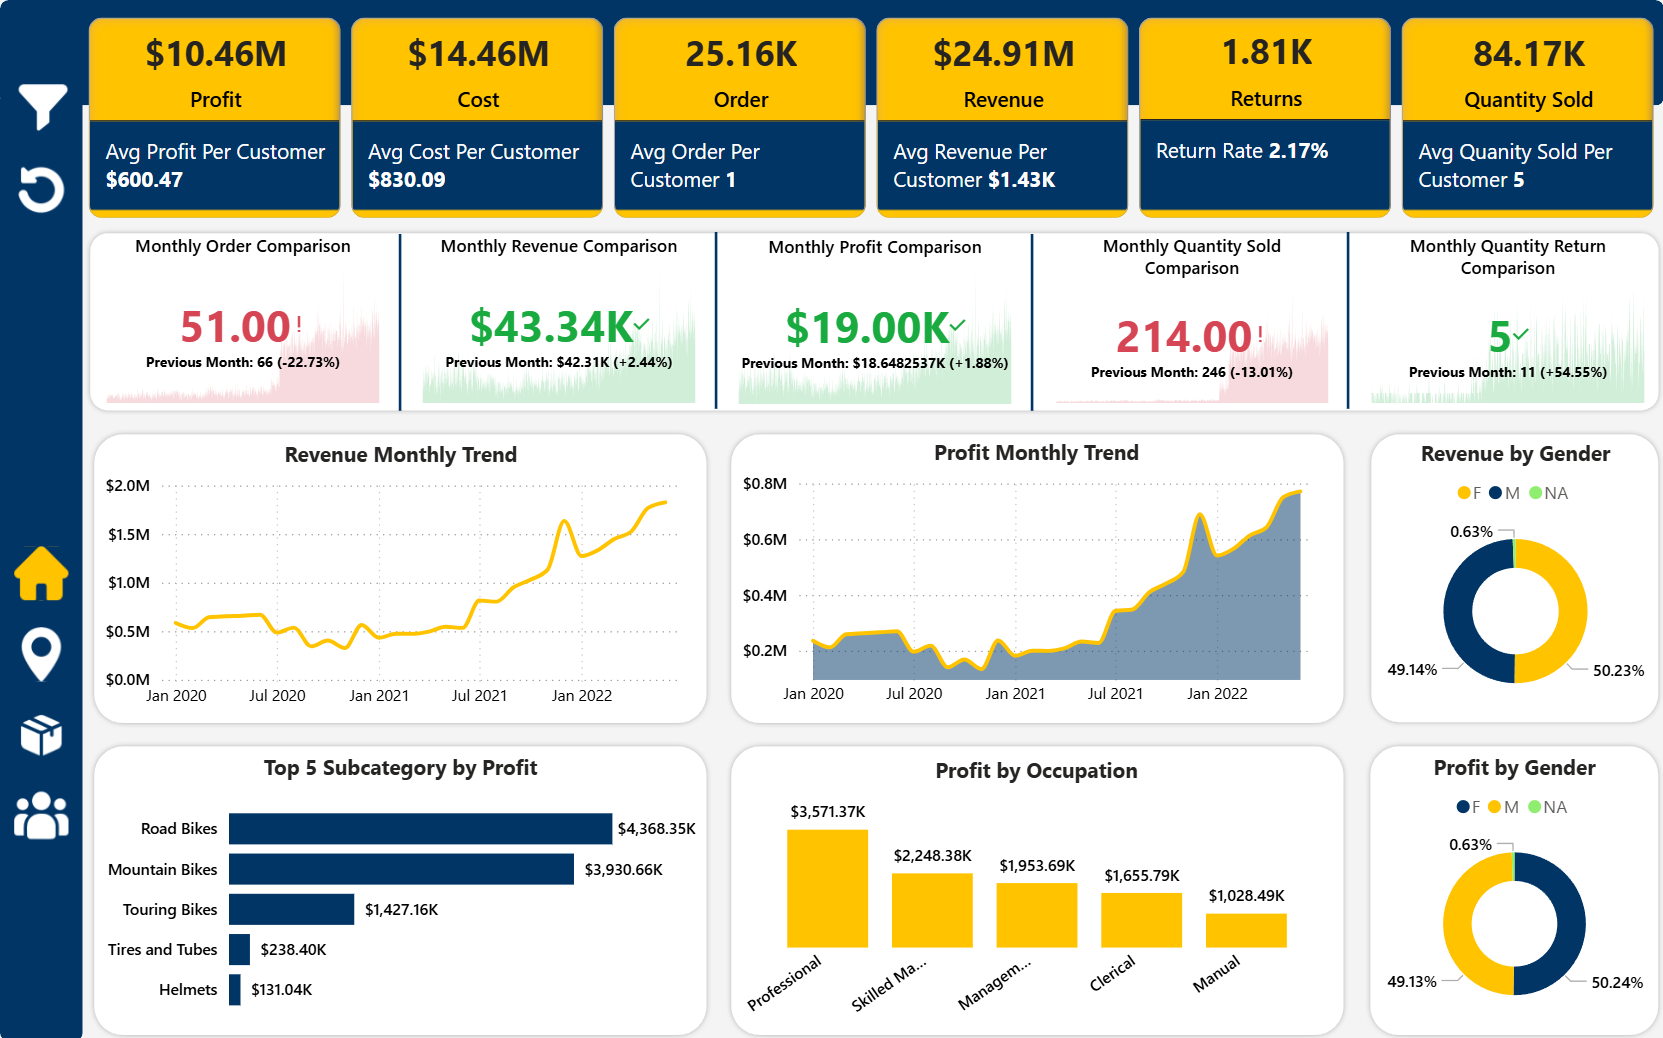

What the dashboard file says about the page in this screenshot:
{"tool":"powerbi","page":{"name":"Home","canvas":[1280,800],"ordinal":0},"visuals":[{"type":"shape","box":[0,0,1280,81.2],"z":0},{"type":"shape","box":[65.6,175.3,1214.4,144.3],"z":0,"group":"g1"},{"type":"cardVisual","fields":{"Data":["_Measure Table.Profit","_Measure Table.Total Cost","_Measure Table.Total Order","_Measure Table.Total Revenue","_Measure Table.Total Returns","_Measure Table.Quantity Sold"]},"box":[63.4,8.7,1216.6,164.2],"z":1000},{"type":"kpi","title":"Monthly Order Comparison","fields":{"Indicator":["_Measure Table.Total Order"],"TrendLine":["Calendar Lookup.Date"],"Goal":["_Measure Table.Previous Month Order"]},"box":[76.9,179.9,220,135],"z":1000,"group":"g1"},{"type":"shape","box":[0,71.9,63.6,728.4],"z":2000},{"type":"kpi","title":"Monthly Revenue Comparison","fields":{"TrendLine":["Calendar Lookup.Date"],"Indicator":["_Measure Table.Total Revenue"],"Goal":["_Measure Table.Previous Month Revenue"]},"box":[320.2,179.8,220,135],"z":2000,"group":"g1"},{"type":"kpi","title":"Monthly Profit Comparison","fields":{"TrendLine":["Calendar Lookup.Date"],"Indicator":["_Measure Table.Profit"],"Goal":["_Measure Table.Previous Month Profit"]},"box":[563.5,180.9,220,135],"z":3000,"group":"g1"},{"type":"shape","box":[68.7,329.9,479,230.2],"z":3000},{"type":"kpi","title":"Monthly Quantity Sold Comparison","fields":{"TrendLine":["Calendar Lookup.Date"],"Indicator":["_Measure Table.Quantity Sold"],"Goal":["_Measure Table.Previous Month Quantity Sold"]},"box":[806.8,180.2,220,135],"z":4000,"group":"g1"},{"type":"kpi","title":"Monthly Quantity Return  Comparison","fields":{"TrendLine":["Calendar Lookup.Date"],"Indicator":["_Measure Table.Quantity Returned"],"Goal":["_Measure Table.Previous Month Quantity Returned"]},"box":[1050.1,179.9,220,135],"z":5000,"group":"g1"},{"type":"lineChart","title":"Revenue Monthly Trend","fields":{"Y":["_Measure Table.Total Revenue"],"Category":["Calendar Lookup.Date Hierarchy.Year","Calendar Lookup.Date Hierarchy.Start of Month","Calendar Lookup.Date Hierarchy.Start of Week","Calendar Lookup.Date Hierarchy.Date"]},"box":[76.3,338.1,464.6,214.4],"z":5000},{"type":"shape","box":[541.6,178.7,18.6,136.1],"z":6000,"group":"g1"},{"type":"shape","box":[1028.2,178.7,18.6,136.1],"z":6000,"group":"g1"},{"type":"shape","box":[298.9,179.9,18.6,136.1],"z":6000,"group":"g1"},{"type":"shape","box":[784.9,180.1,18.6,136.1],"z":6000,"group":"g1"},{"type":"shape","box":[558.8,329.9,479,230.2],"z":6000},{"type":"lineChart","title":"Profit Monthly Trend","fields":{"Category":["Calendar Lookup.Date Hierarchy.Year","Calendar Lookup.Date Hierarchy.Start of Month","Calendar Lookup.Date Hierarchy.Start of Week","Calendar Lookup.Date Hierarchy.Date"],"Y":["_Measure Table.Profit"]},"box":[565.6,336.8,463.9,215.1],"z":7000},{"type":"shape","box":[1050.9,329.9,228.9,229.6],"z":8000},{"type":"donutChart","title":" Revenue by Gender","fields":{"Category":["Customer Lookup.Gender"],"Y":["_Measure Table.Total Revenue"]},"box":[1059.1,337.5,213.1,215.1],"z":9000},{"type":"shape","box":[68.7,569.8,479,230.2],"z":10000},{"type":"shape","box":[558.8,569.8,479,230.2],"z":11000},{"type":"shape","box":[1050.2,569.8,229.6,230.2],"z":12000},{"type":"clusteredBarChart","title":"Top 5 Subcategory by Profit","fields":{"Category":["Product Subcategories Lookup.Subcategory Name"],"Y":["_Measure Table.Profit"]},"box":[76.3,579.4,463.9,212.4],"z":13000},{"type":"columnChart","fields":{"Y":["_Measure Table.Profit"],"Category":["Customer Lookup.Occupation"]},"box":[565.6,581.4,463.9,212.4],"z":14000},{"type":"donutChart","fields":{"Category":["Customer Lookup.Gender"],"Y":["_Measure Table.Profit"]},"box":[1058.4,579.4,213.1,213.1],"z":15000},{"type":"actionButton","box":[6.9,416,49.8,49.8],"z":16000},{"type":"actionButton","box":[6.9,478.2,49.8,49.8],"z":17000},{"type":"actionButton","box":[6.9,540.4,49.8,49.8],"z":18000},{"type":"actionButton","box":[6.9,602.6,49.8,49.8],"z":19000},{"type":"actionButton","box":[6.9,118.9,49.8,53.9],"z":20000},{"type":"actionButton","box":[6.9,55.3,56.7,52.5],"z":21000},{"type":"group","id":"g1","title":"Group 1","box":[65.6,175.3,1214.4,144.3],"z":22001}]}

Visuals, with their boxes in screenshot pixels (x1, y1, x2, y2), scaled from the page's 1280x800 canvas onto the 1663x1038 screenshot:
shape: region(0, 0, 1662, 105)
shape: region(85, 227, 1662, 415)
cardVisual - _Measure Table.Profit x _Measure Table.Total Cost: region(82, 11, 1662, 224)
"Monthly Order Comparison" kpi: region(100, 233, 386, 409)
shape: region(0, 93, 83, 1037)
"Monthly Revenue Comparison" kpi: region(416, 233, 702, 408)
"Monthly Profit Comparison" kpi: region(732, 235, 1018, 410)
shape: region(89, 428, 712, 727)
"Monthly Quantity Sold Comparison" kpi: region(1048, 234, 1334, 409)
"Monthly Quantity Return  Comparison" kpi: region(1364, 233, 1650, 409)
"Revenue Monthly Trend" lineChart: region(99, 439, 703, 717)
shape: region(704, 232, 728, 408)
shape: region(1336, 232, 1360, 408)
shape: region(388, 233, 413, 410)
shape: region(1020, 234, 1044, 410)
shape: region(726, 428, 1348, 727)
"Profit Monthly Trend" lineChart: region(735, 437, 1338, 716)
shape: region(1365, 428, 1662, 726)
" Revenue by Gender" donutChart: region(1376, 438, 1653, 717)
shape: region(89, 739, 712, 1037)
shape: region(726, 739, 1348, 1037)
shape: region(1364, 739, 1662, 1037)
"Top 5 Subcategory by Profit" clusteredBarChart: region(99, 752, 702, 1027)
columnChart - _Measure Table.Profit x Customer Lookup.Occupation: region(735, 754, 1338, 1030)
donutChart - Customer Lookup.Gender x _Measure Table.Profit: region(1375, 752, 1652, 1028)
actionButton: region(9, 540, 74, 604)
actionButton: region(9, 620, 74, 685)
actionButton: region(9, 701, 74, 766)
actionButton: region(9, 782, 74, 846)
actionButton: region(9, 154, 74, 224)
actionButton: region(9, 72, 83, 140)
"Group 1" group: region(85, 227, 1662, 415)
